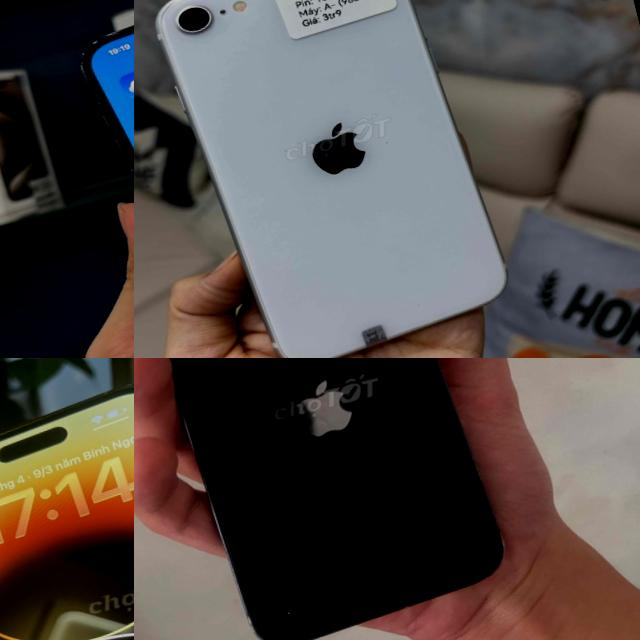gen_12_13: (134, 358, 525, 640), (69, 0, 134, 358)
gen_14: (0, 358, 134, 640)
gen_7_8: (134, 0, 539, 358)
